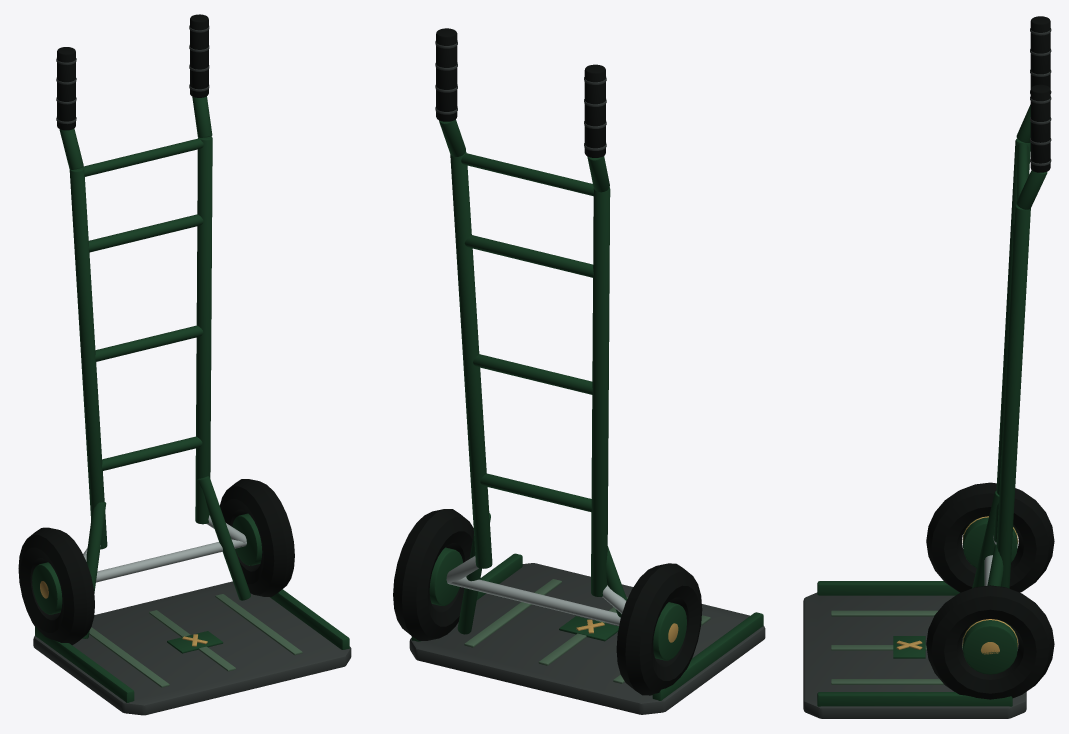
Rendered from delivery_hand_truck.glb.
3 renders of one model, left to right at view 1: azimuth 30°, elevation 25°; view 2: azimuth 150°, elevation 25°; view 3: azimuth 270°, elevation 25°, orthographic. The views are drawn at different scales.
Parts seen in each view (by area): view 1: LOAD_PLATE, WHEEL_LEFT_TIRE, FRAME_RAIL_RIGHT, FRAME_RAIL_LEFT, WHEEL_RIGHT_TIRE, TOE_SUPPORT_RIGHT, AXLE_SHAFT, TOE_EDGE_GUARD_LEFT, FRAME_CROSSBAR_03, HANDLE_RIGHT_GRIP, HANDLE_LEFT_GRIP, FRAME_CROSSBAR_04 (+12 smaller); view 2: LOAD_PLATE, WHEEL_LEFT_TIRE, FRAME_RAIL_LEFT, FRAME_RAIL_RIGHT, WHEEL_RIGHT_TIRE, AXLE_SHAFT, TOE_EDGE_GUARD_LEFT, HANDLE_RIGHT_GRIP, HANDLE_LEFT_GRIP, FRAME_CROSSBAR_03, FRAME_CROSSBAR_04, FRAME_CROSSBAR_02 (+8 smaller); view 3: LOAD_PLATE, WHEEL_RIGHT_TIRE, WHEEL_LEFT_TIRE, FRAME_RAIL_RIGHT, TOE_EDGE_GUARD_RIGHT, WHEEL_RIGHT_HUB, TOE_EDGE_GUARD_LEFT, HANDLE_RIGHT_GRIP, FRAME_RAIL_LEFT, HANDLE_LEFT_GRIP, WHEEL_LEFT_HUB, TOE_SUPPORT_LEFT (+6 smaller).
Boxes of the visible parts, box(x1,y1,x2,y2) form: LOAD_PLATE: box(33, 581, 351, 715); WHEEL_LEFT_TIRE: box(18, 527, 94, 645); FRAME_RAIL_RIGHT: box(195, 136, 212, 524); FRAME_RAIL_LEFT: box(69, 167, 107, 549); WHEEL_RIGHT_TIRE: box(220, 479, 294, 596); TOE_SUPPORT_RIGHT: box(197, 476, 250, 600); AXLE_SHAFT: box(96, 539, 246, 582); TOE_EDGE_GUARD_LEFT: box(35, 626, 134, 702); FRAME_CROSSBAR_03: box(88, 214, 203, 252); HANDLE_RIGHT_GRIP: box(190, 14, 208, 97); HANDLE_LEFT_GRIP: box(57, 47, 75, 130); FRAME_CROSSBAR_04: box(83, 138, 203, 176); LOAD_PLATE: box(409, 563, 765, 714); WHEEL_LEFT_TIRE: box(616, 563, 702, 695); FRAME_RAIL_LEFT: box(591, 187, 610, 596); FRAME_RAIL_RIGHT: box(450, 151, 492, 568); WHEEL_RIGHT_TIRE: box(393, 509, 473, 640); AXLE_SHAFT: box(447, 576, 620, 625); TOE_EDGE_GUARD_LEFT: box(652, 612, 763, 700); HANDLE_RIGHT_GRIP: box(436, 28, 457, 121); HANDLE_LEFT_GRIP: box(584, 64, 605, 157); FRAME_CROSSBAR_03: box(464, 235, 593, 277); FRAME_CROSSBAR_04: box(461, 153, 593, 196); FRAME_CROSSBAR_02: box(473, 354, 592, 394); LOAD_PLATE: box(803, 592, 1026, 718); WHEEL_RIGHT_TIRE: box(926, 585, 1054, 699); WHEEL_LEFT_TIRE: box(926, 482, 1054, 592); FRAME_RAIL_RIGHT: box(996, 204, 1030, 588); TOE_EDGE_GUARD_RIGHT: box(817, 692, 1012, 706); WHEEL_RIGHT_HUB: box(963, 620, 1017, 674); TOE_EDGE_GUARD_LEFT: box(817, 581, 959, 595); HANDLE_RIGHT_GRIP: box(1030, 84, 1050, 172); FRAME_RAIL_LEFT: box(994, 138, 1030, 542); HANDLE_LEFT_GRIP: box(1030, 16, 1050, 88); WHEEL_LEFT_HUB: box(963, 517, 1017, 568); TOE_SUPPORT_LEFT: box(972, 491, 999, 588).
Size of the model in its own units: 0.5 by 1.2 by 0.45.
